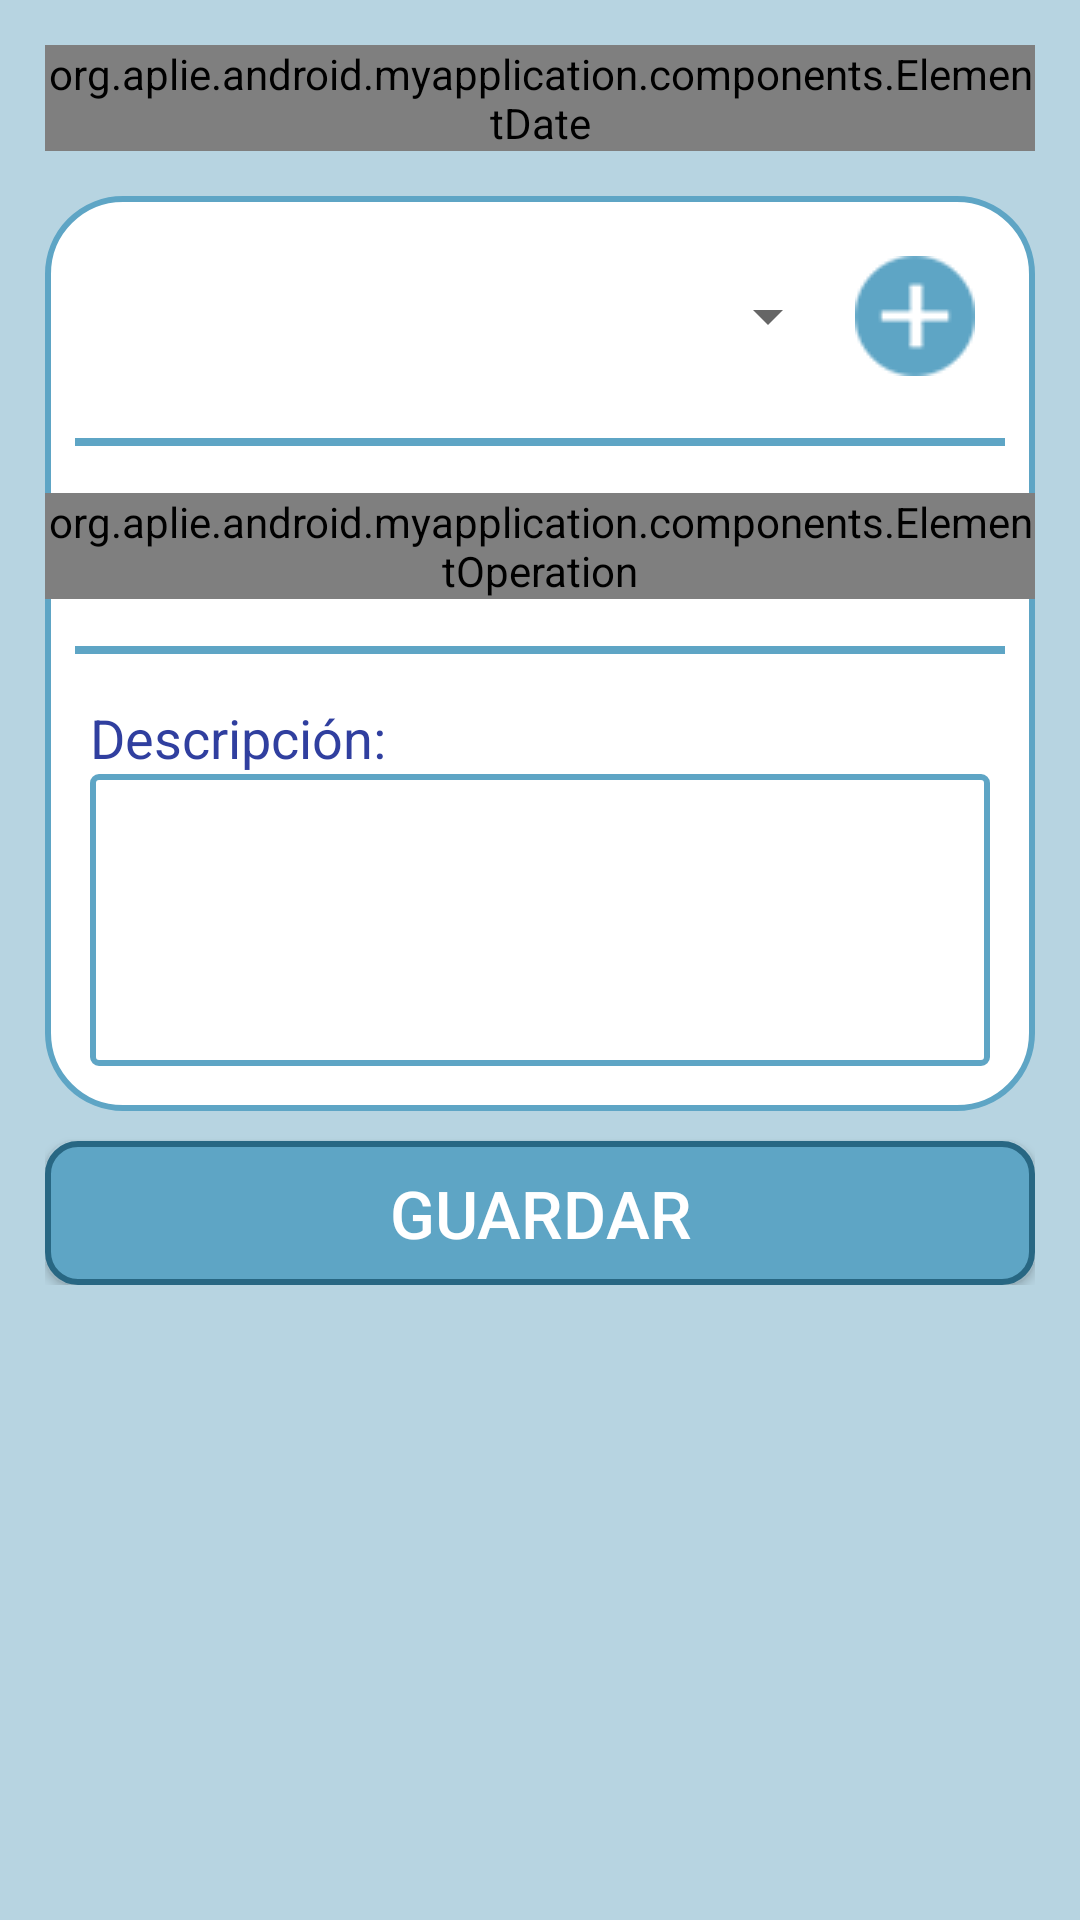

Screen size 1080 × 1920. Icon name, then its box in pixels as (x1, y1, x2, y2):
add: (855, 256, 975, 376)
